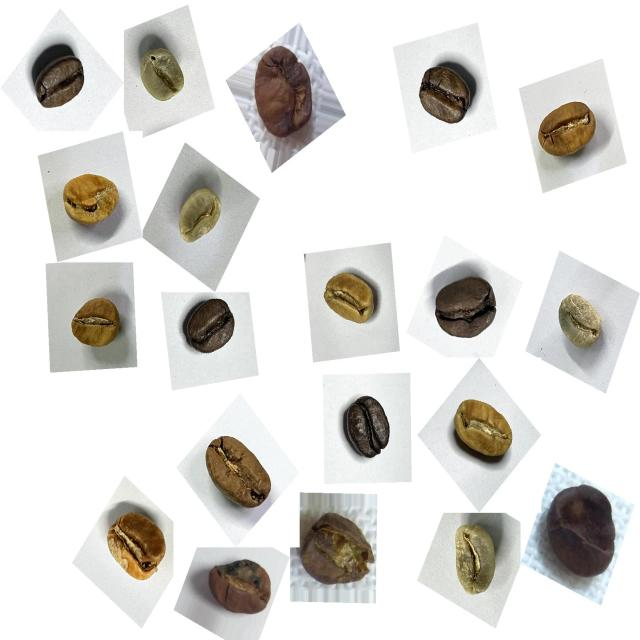bad: (537, 476, 626, 592), (242, 34, 328, 147), (292, 502, 380, 601), (195, 547, 279, 628)
dark: (428, 260, 508, 351), (404, 49, 481, 137), (22, 37, 96, 122), (332, 388, 403, 468), (176, 290, 244, 366)
green: (444, 388, 523, 478), (440, 517, 509, 607), (164, 172, 233, 260), (126, 32, 195, 116), (549, 282, 614, 363)
light: (97, 500, 175, 597), (50, 157, 128, 246), (529, 85, 607, 172), (312, 255, 388, 339), (61, 284, 127, 366)
medium: (192, 424, 278, 525)
